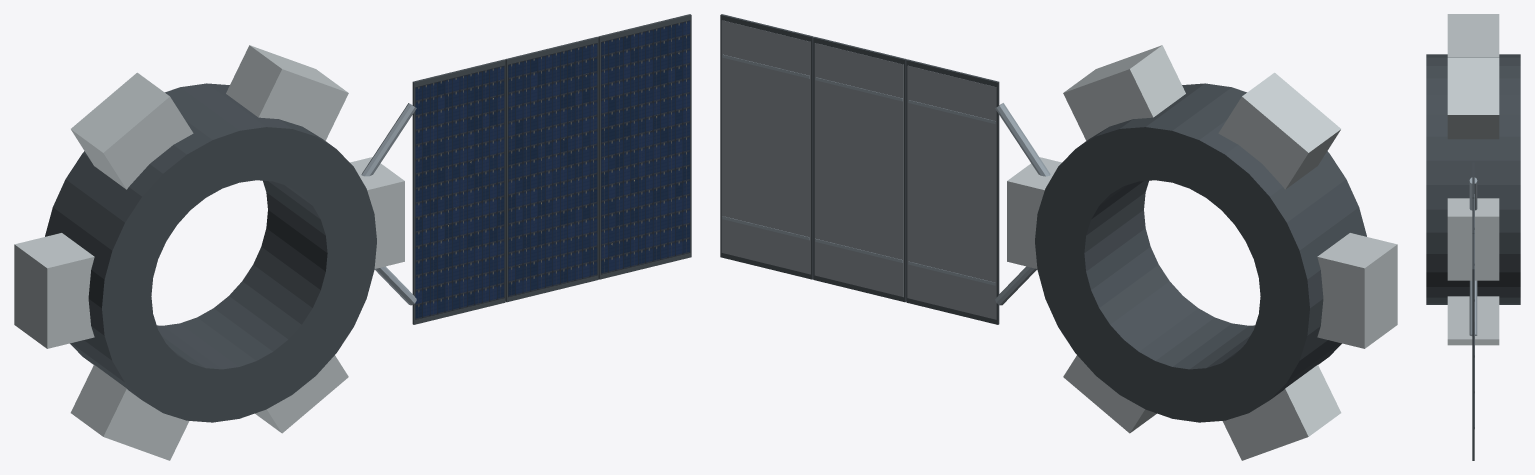
File: ref-espastar-43340.glb
3 views of the same model, side by side, from view 1: azimuth 30°, elevation 25°; view 2: azimuth 150°, elevation 25°; view 3: azimuth 270°, elevation 25° (orthographic). The views are drawn at different scales.
Visible parts, largest first — view 1: Payload adapter, Solar cell panel (×3), Hosted payload enclosure (×6), Solar panel frame (×3), Array yoke; view 2: Payload adapter, Rear array substrate (×3), Hosted payload enclosure (×6), Solar panel frame (×3), Array yoke; view 3: Payload adapter, Hosted payload enclosure (×4), Solar panel frame, Array yoke (×2).
Boxes of the visible parts, <box> form: Payload adapter: <box>45,83,376,422</box>; Solar cell panel (×3): <box>415,20,690,319</box>; Hosted payload enclosure (×6): <box>14,45,404,460</box>; Solar panel frame (×3): <box>412,14,691,324</box>; Array yoke: <box>361,103,416,176</box>; Payload adapter: <box>1035,83,1366,422</box>; Rear array substrate (×3): <box>721,20,996,319</box>; Hosted payload enclosure (×6): <box>1007,45,1397,460</box>; Solar panel frame (×3): <box>720,14,999,324</box>; Array yoke: <box>995,103,1050,176</box>; Payload adapter: <box>1426,54,1520,304</box>; Hosted payload enclosure (×4): <box>1447,14,1499,345</box>; Solar panel frame: <box>1472,234,1474,460</box>; Array yoke (×2): <box>1469,177,1477,335</box>.
Bounding box in the file's own units: 3.84 × 2.03 × 0.6.
Materials: 5 (1 with a texture image).
